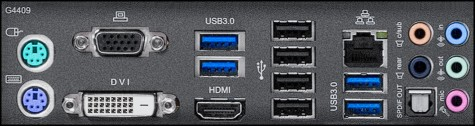Audio: (443, 19, 472, 48), (405, 54, 435, 80), (444, 55, 471, 81), (444, 86, 469, 114), (407, 20, 434, 43)
DVI: (85, 92, 156, 117)
Ethernet: (342, 30, 388, 70)
HDMI: (193, 97, 246, 123)
USB: (341, 96, 388, 120), (195, 30, 244, 52), (269, 20, 318, 41), (195, 57, 246, 75)
VGA: (91, 26, 147, 57)
